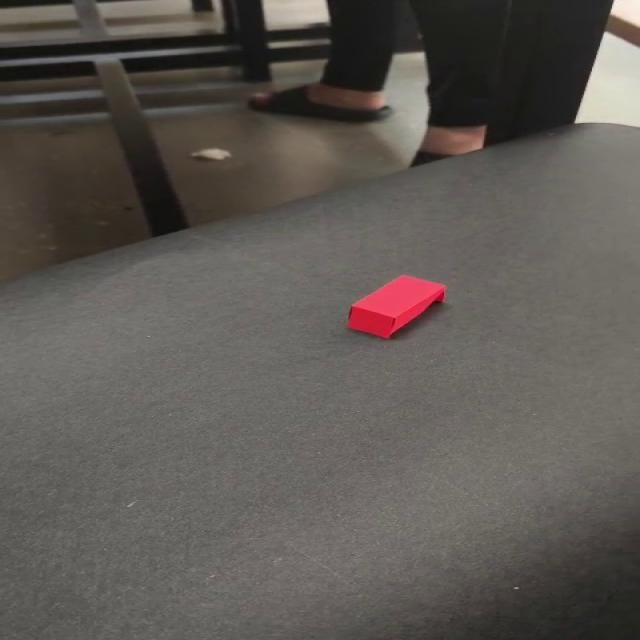red block: (345, 274, 447, 338)
